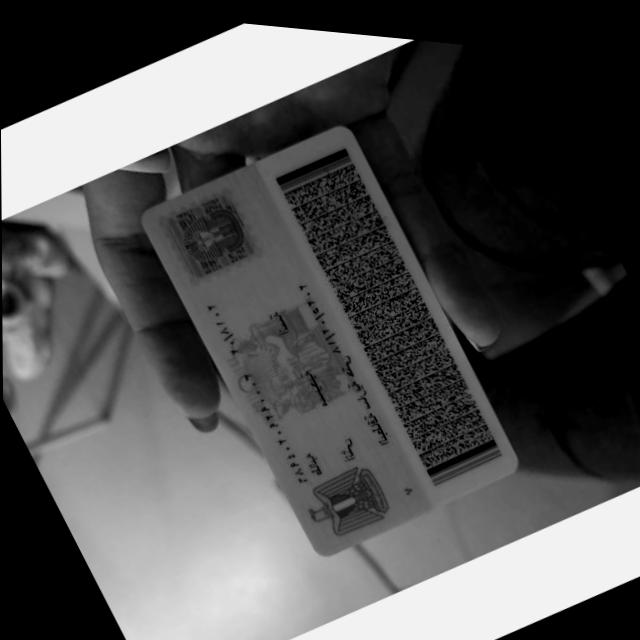back: (142, 126, 515, 554)
